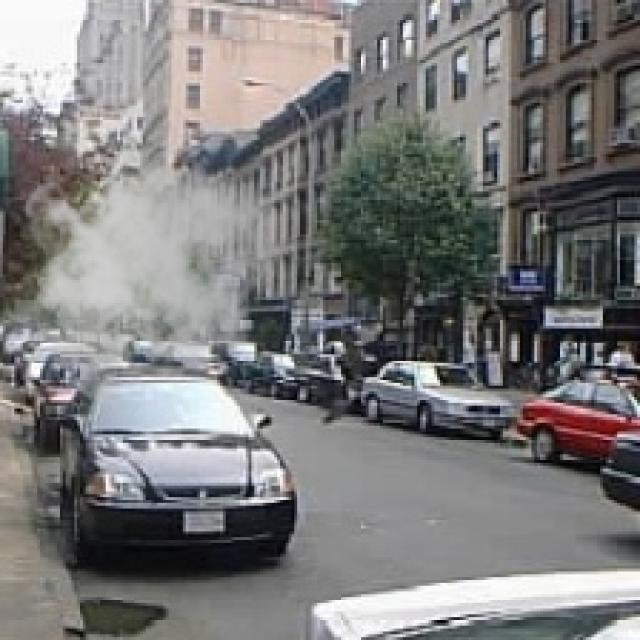Smoke: (17, 131, 286, 400)
